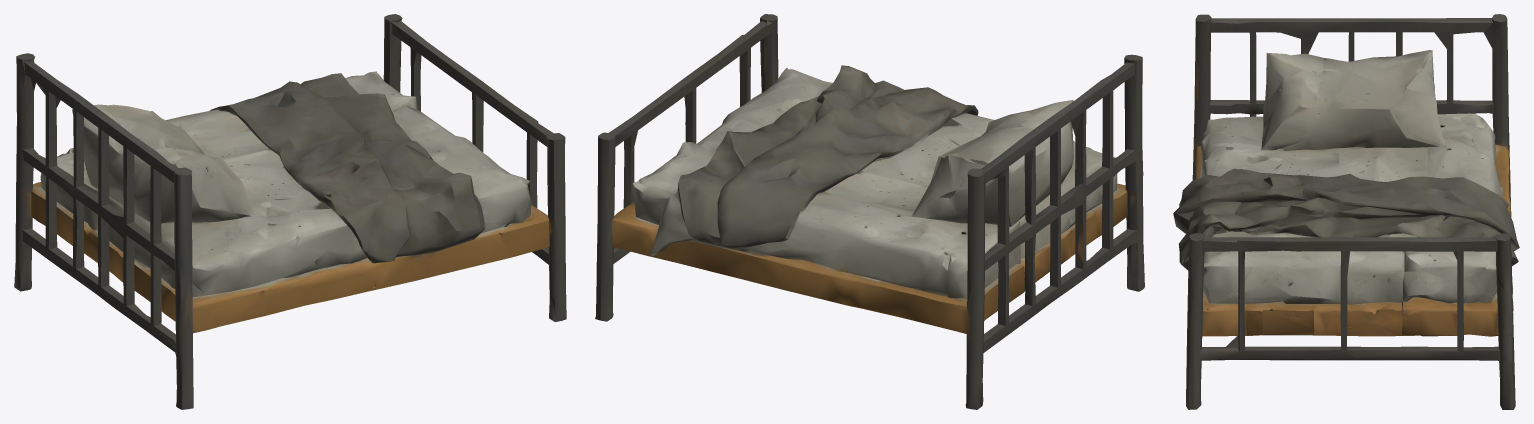
The model's file is bed_idle.glb.
3 renders of one model, left to right at view 1: azimuth 30°, elevation 25°; view 2: azimuth 150°, elevation 25°; view 3: azimuth 270°, elevation 25°, orthographic. The views are drawn at different scales.
Parts seen in each view (by area): view 1: tripo_node_0fc4ef5c-cd13-4522-9b5f-9d9d2ebea5c0; view 2: tripo_node_0fc4ef5c-cd13-4522-9b5f-9d9d2ebea5c0; view 3: tripo_node_0fc4ef5c-cd13-4522-9b5f-9d9d2ebea5c0.
Part boxes in pixels (bbox=[...]): tripo_node_0fc4ef5c-cd13-4522-9b5f-9d9d2ebea5c0: bbox=[14, 14, 566, 409]; tripo_node_0fc4ef5c-cd13-4522-9b5f-9d9d2ebea5c0: bbox=[595, 14, 1144, 409]; tripo_node_0fc4ef5c-cd13-4522-9b5f-9d9d2ebea5c0: bbox=[1173, 14, 1519, 409].
Bounding box in the file's own units: 1.38 × 0.7992 × 1.14.
1 material, 1 textured.
